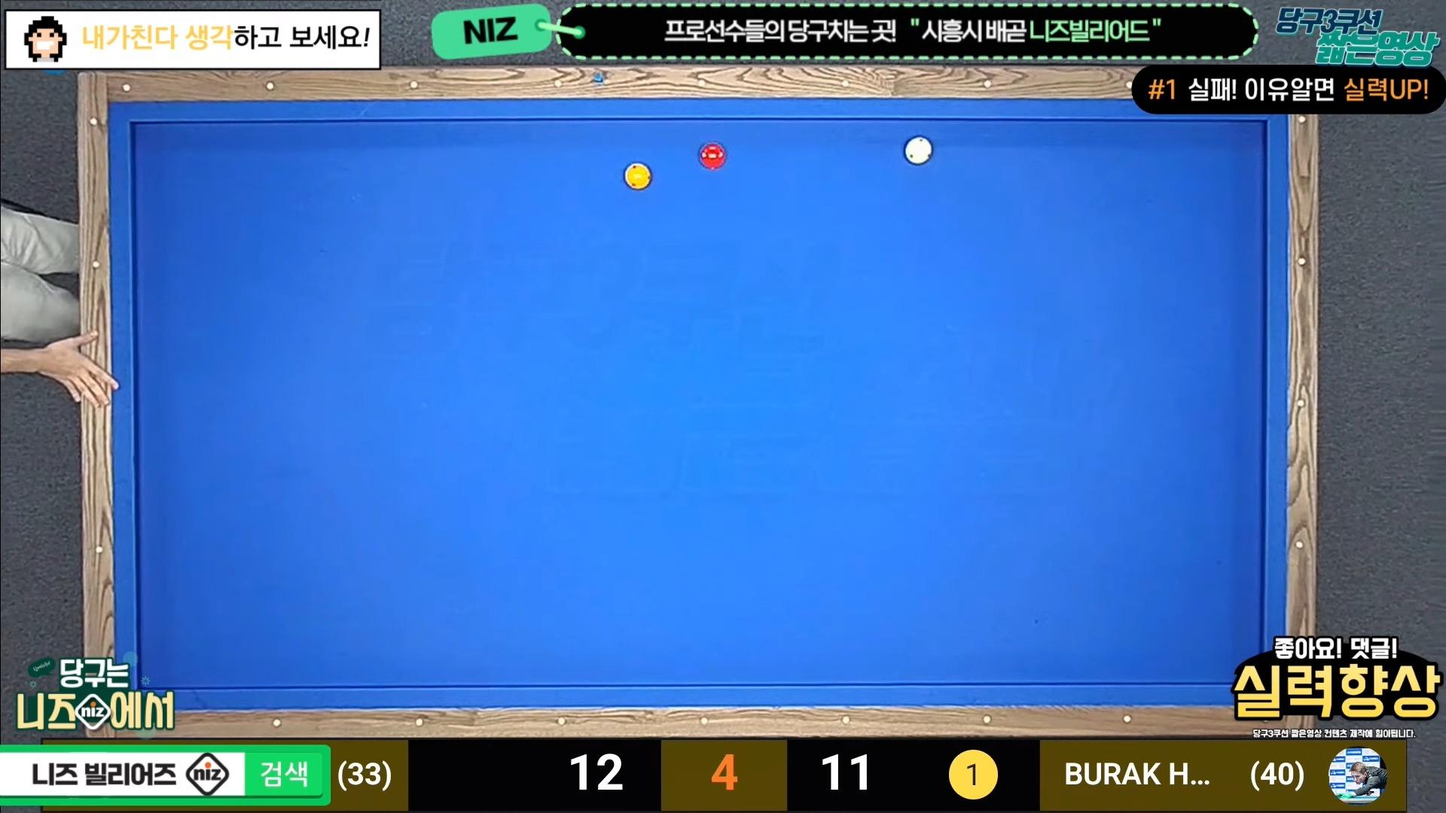Red: (698, 141, 731, 170)
White: (905, 136, 939, 166)
Yellow: (623, 162, 655, 192)
